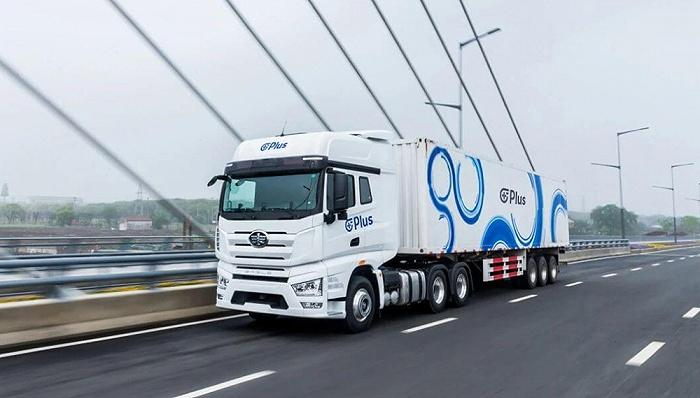卡车: (210, 130, 573, 333)
